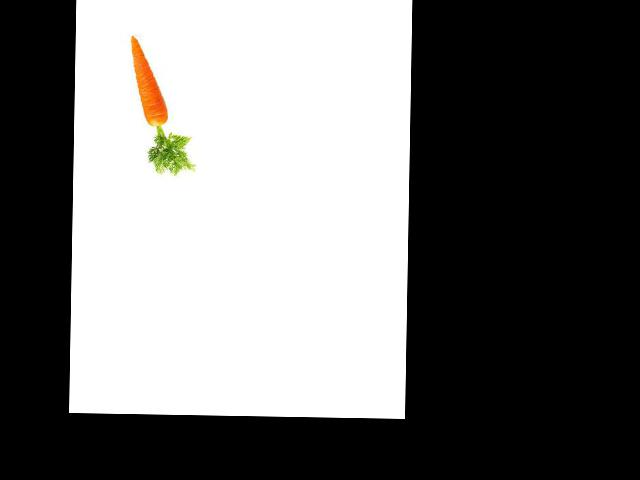carrot: (122, 34, 170, 131)
